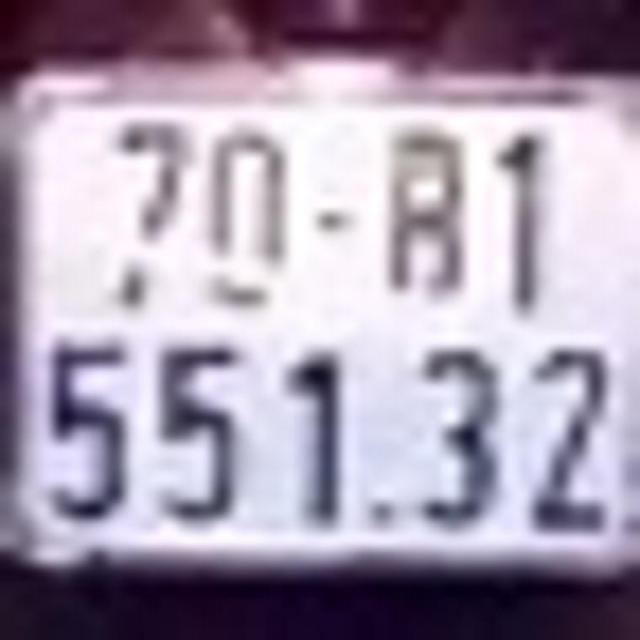0: (200, 116, 292, 310)
1: (489, 117, 555, 322), (275, 343, 341, 524)
2: (534, 338, 612, 536)
3: (414, 338, 508, 524)
5: (41, 332, 129, 518), (156, 328, 238, 522)
7: (106, 114, 194, 309)
B: (370, 112, 470, 306)
